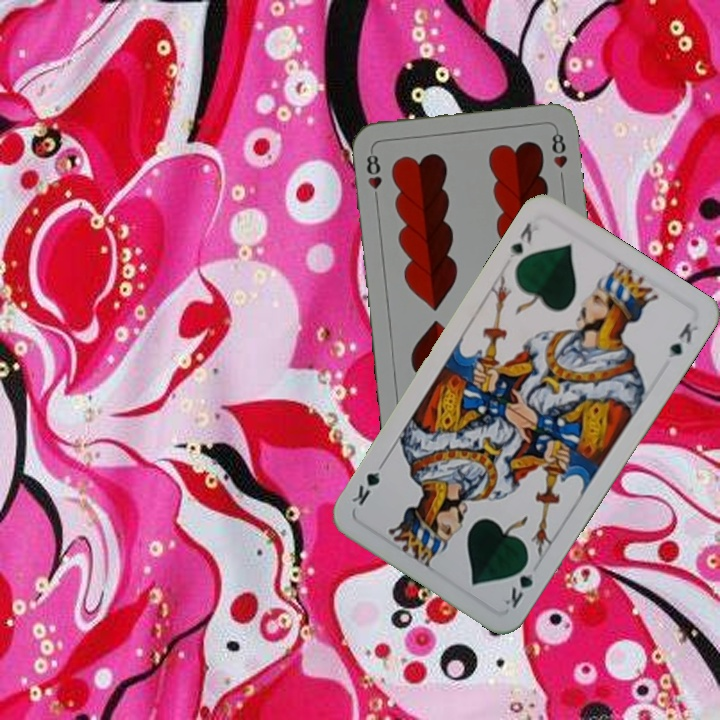GK: (498, 555, 537, 611), (505, 218, 535, 262)
H8: (362, 146, 385, 205)
